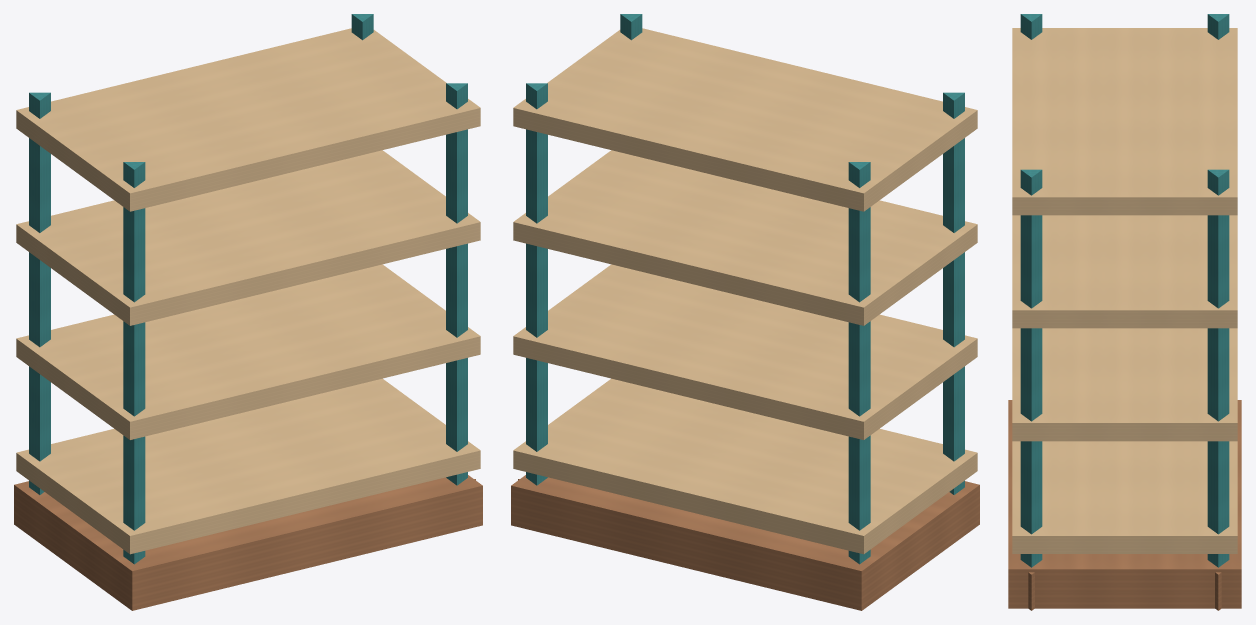
Rendered from atlas100-s094-a06.lod2.glb.
3 views of the same model, side by side, from view 1: azimuth 30°, elevation 25°; view 2: azimuth 150°, elevation 25°; view 3: azimuth 270°, elevation 25° (orthographic).
Parts seen in each view (by area): view 1: atlas100-s094-a06:part-014, atlas100-s094-a06:part-013, atlas100-s094-a06:part-011, atlas100-s094-a06:part-012, atlas100-s094-a06:part-000, atlas100-s094-a06:part-005, atlas100-s094-a06:part-009, atlas100-s094-a06:part-003; view 2: atlas100-s094-a06:part-014, atlas100-s094-a06:part-013, atlas100-s094-a06:part-011, atlas100-s094-a06:part-012, atlas100-s094-a06:part-000, atlas100-s094-a06:part-003, atlas100-s094-a06:part-007, atlas100-s094-a06:part-005; view 3: atlas100-s094-a06:part-014, atlas100-s094-a06:part-012, atlas100-s094-a06:part-013, atlas100-s094-a06:part-011, atlas100-s094-a06:part-000, atlas100-s094-a06:part-007, atlas100-s094-a06:part-009, atlas100-s094-a06:part-003, atlas100-s094-a06:part-005.
Boxes of the visible parts, x1,y1,x2,y2 form: atlas100-s094-a06:part-014: [16, 28, 480, 211]; atlas100-s094-a06:part-013: [16, 150, 480, 325]; atlas100-s094-a06:part-011: [16, 378, 480, 554]; atlas100-s094-a06:part-012: [16, 264, 480, 439]; atlas100-s094-a06:part-000: [14, 475, 482, 610]; atlas100-s094-a06:part-005: [123, 162, 145, 564]; atlas100-s094-a06:part-009: [446, 83, 467, 485]; atlas100-s094-a06:part-003: [29, 92, 50, 494]; atlas100-s094-a06:part-014: [513, 28, 977, 211]; atlas100-s094-a06:part-013: [513, 150, 977, 325]; atlas100-s094-a06:part-011: [513, 378, 977, 554]; atlas100-s094-a06:part-012: [513, 264, 977, 439]; atlas100-s094-a06:part-000: [511, 475, 979, 610]; atlas100-s094-a06:part-003: [848, 162, 870, 564]; atlas100-s094-a06:part-007: [526, 83, 547, 485]; atlas100-s094-a06:part-005: [943, 92, 964, 494]; atlas100-s094-a06:part-014: [1012, 28, 1237, 215]; atlas100-s094-a06:part-012: [1012, 328, 1237, 441]; atlas100-s094-a06:part-013: [1012, 215, 1237, 328]; atlas100-s094-a06:part-011: [1012, 441, 1237, 553]; atlas100-s094-a06:part-000: [1008, 400, 1241, 608]; atlas100-s094-a06:part-007: [1207, 169, 1229, 567]; atlas100-s094-a06:part-009: [1020, 169, 1042, 567]; atlas100-s094-a06:part-003: [1207, 14, 1229, 39]; atlas100-s094-a06:part-005: [1020, 14, 1042, 39].
Size of the model in its own units: 2.43 by 2.84 by 1.4.
Materials: 3 (3 with a texture image).
